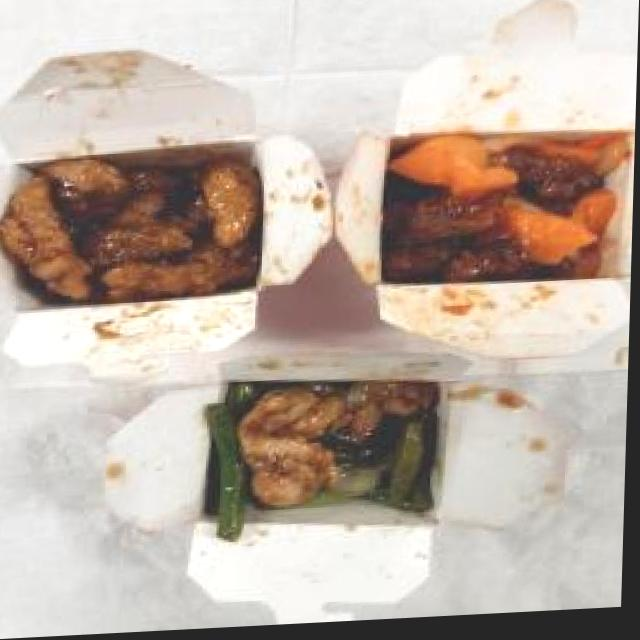Beijing Beef: (381, 129, 627, 292)
The Original Orange Chicken: (0, 142, 266, 318)
